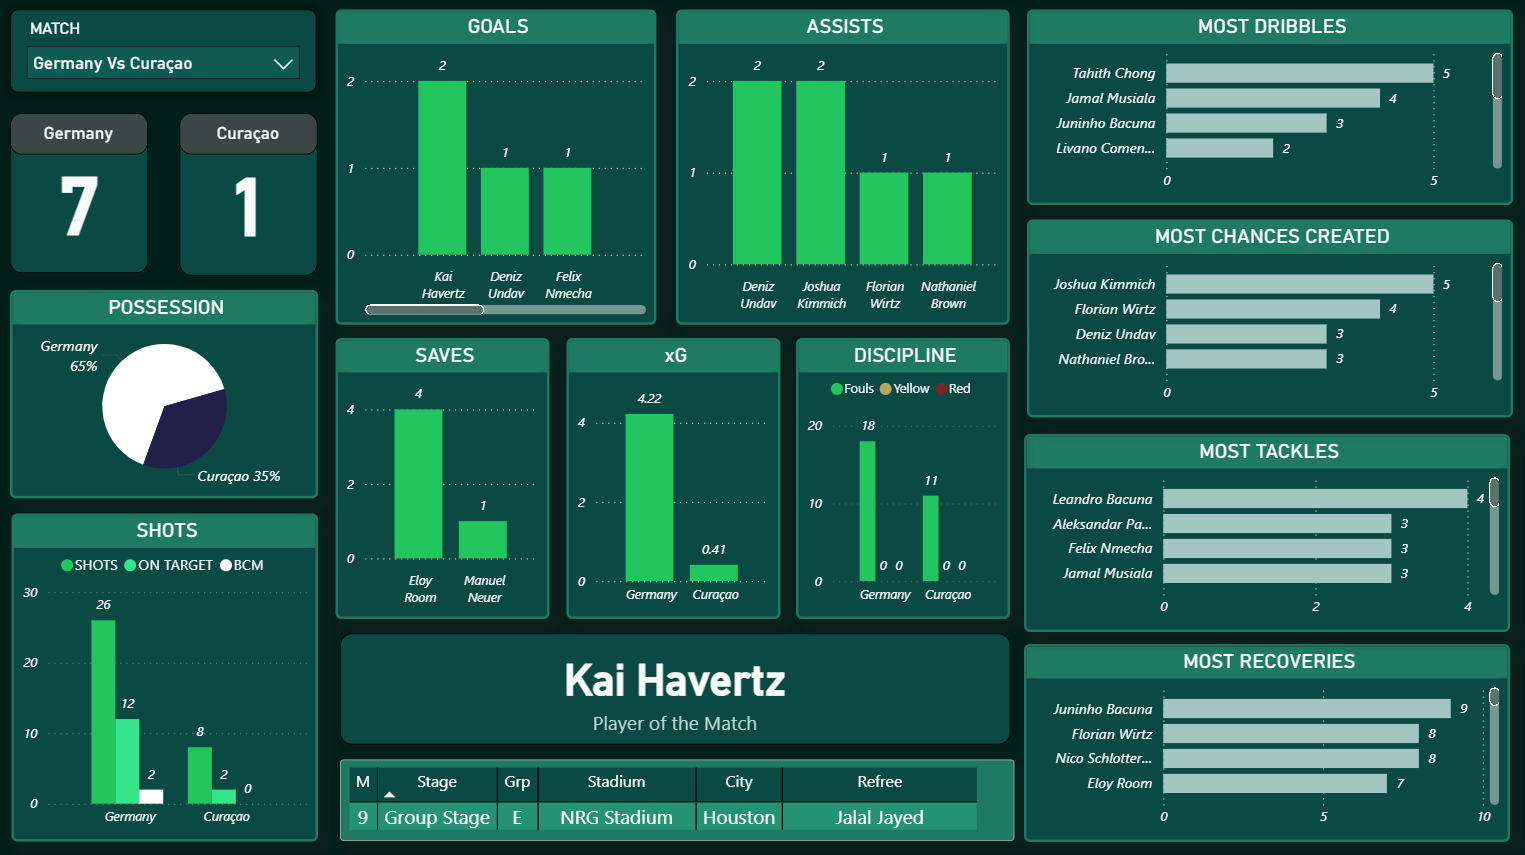

This screenshot's page, from the dashboard's own definition file:
{"tool":"powerbi","page":{"name":"Match Stats","canvas":[1280,720],"ordinal":3},"visuals":[{"type":"slicer","title":"TEAM","fields":{"Values":["wc2026 matches.Match"]},"box":[12.1,13.6,255.9,69.7],"z":0},{"type":"pieChart","title":"POSSESSION","fields":{"Y":["Sum(wc2026 match_stats.possession)"],"Category":["wc2026 match_stats.team"]},"box":[12.1,248.3,257.4,174.1],"z":1000},{"type":"tableEx","title":"Group J","fields":{"Values":["wc2026 matches.match_no","wc2026 matches.match_type","wc2026 matches.Group_name","wc2026 matches.stadium","wc2026 matches.city","wc2026 matches.referee"]},"box":[287.7,640.5,563.3,68.1],"z":2000},{"type":"card","fields":{"Values":["Sum(wc2026 matches.HTG)"]},"box":[12.1,103.5,115.1,130.2],"z":3000},{"type":"card","fields":{"Values":["Sum(wc2026 matches.ATG)"]},"box":[154.4,103.5,115.1,131.7],"z":4000},{"type":"card","fields":{"Values":["Min(wc2026 matches.away_team)"]},"box":[154.4,100.5,115.1,34.8],"z":5000},{"type":"card","fields":{"Values":["Min(wc2026 matches.home_team)"]},"box":[12.1,100.5,115.1,34.8],"z":6000},{"type":"barChart","title":"MOST DRIBBLES","fields":{"Category":["wc2026 attack_stats.player_name"],"Y":["Sum(wc2026 attack_stats.dribbles)"]},"box":[861.6,13.6,405.8,163.5],"z":7000},{"type":"barChart","title":"MOST RECOVERIES","fields":{"Category":["wc2026 defencestats.player_name"],"Y":["Sum(wc2026 defencestats.recoveries)"]},"box":[860.1,543.6,405.8,165],"z":8000},{"type":"barChart","title":"MOST TACKLES","fields":{"Category":["wc2026 defencestats.player_name"],"Y":["Sum(wc2026 defencestats.tackles)"]},"box":[860.1,368,405.8,165],"z":9000},{"type":"clusteredColumnChart","title":"GOALS","fields":{"Category":["wc2026 attack_stats.player_name"],"Y":["Sum(wc2026 attack_stats.goals)"]},"box":[284.7,13.6,268,263.5],"z":10000},{"type":"clusteredColumnChart","title":"ASSISTS","fields":{"Category":["wc2026 attack_stats.player_name"],"Y":["Sum(wc2026 attack_stats.assists)"]},"box":[569.3,13.6,278.6,263.5],"z":11000},{"type":"clusteredColumnChart","title":"SAVES","fields":{"Category":["wc2026 defencestats.player_name"],"Y":["Sum(wc2026 defencestats.gk_saves)"]},"box":[284.7,287.7,178.7,234.7],"z":12000},{"type":"clusteredColumnChart","title":"SHOTS","fields":{"Category":["wc2026 match_stats.team"],"Y":["Sum(wc2026 match_stats.shots)","Sum(wc2026 match_stats.on_target)","Sum(wc2026 match_stats.BCM)"]},"box":[13.6,434.6,255.9,274.1],"z":13000},{"type":"clusteredColumnChart","title":"xG","fields":{"Category":["wc2026 match_stats.team"],"Y":["Sum(wc2026 match_stats.xg)"]},"box":[477,287.7,178.7,234.7],"z":14000},{"type":"clusteredColumnChart","title":"DISCIPLINE","fields":{"Category":["wc2026 match_stats.team"],"Y":["Sum(wc2026 match_stats.fouls)","Sum(wc2026 match_stats.yellow_c)","Sum(wc2026 match_stats.red_c)"]},"box":[669.3,287.7,178.7,234.7],"z":15000},{"type":"barChart","title":"MOST CHANCES CREATED","fields":{"Y":["Sum(wc2026 attack_stats.Chances_Created)"],"Category":["wc2026 attack_stats.player_name"]},"box":[861.6,189.3,405.8,165],"z":16000},{"type":"card","fields":{"Values":["Min(wc2026 matches.potm)"]},"box":[287.7,534.5,560.3,92.4],"z":17000}]}

Visuals, with their boxes in screenshot pixels (x1, y1, x2, y2), scaled from the page's 1280x720 canvas onto the 1525x855 screenshot:
"TEAM" slicer: bbox(14, 16, 319, 99)
"POSSESSION" pieChart: bbox(14, 295, 321, 502)
"Group J" tableEx: bbox(343, 761, 1014, 841)
card - Sum(wc2026 matches.HTG): bbox(14, 123, 152, 278)
card - Sum(wc2026 matches.ATG): bbox(184, 123, 321, 279)
card - Min(wc2026 matches.away_team): bbox(184, 119, 321, 161)
card - Min(wc2026 matches.home_team): bbox(14, 119, 152, 161)
"MOST DRIBBLES" barChart: bbox(1027, 16, 1510, 210)
"MOST RECOVERIES" barChart: bbox(1025, 646, 1508, 841)
"MOST TACKLES" barChart: bbox(1025, 437, 1508, 633)
"GOALS" clusteredColumnChart: bbox(339, 16, 658, 329)
"ASSISTS" clusteredColumnChart: bbox(678, 16, 1010, 329)
"SAVES" clusteredColumnChart: bbox(339, 342, 552, 620)
"SHOTS" clusteredColumnChart: bbox(16, 516, 321, 842)
"xG" clusteredColumnChart: bbox(568, 342, 781, 620)
"DISCIPLINE" clusteredColumnChart: bbox(797, 342, 1010, 620)
"MOST CHANCES CREATED" barChart: bbox(1027, 225, 1510, 421)
card - Min(wc2026 matches.potm): bbox(343, 635, 1010, 744)
